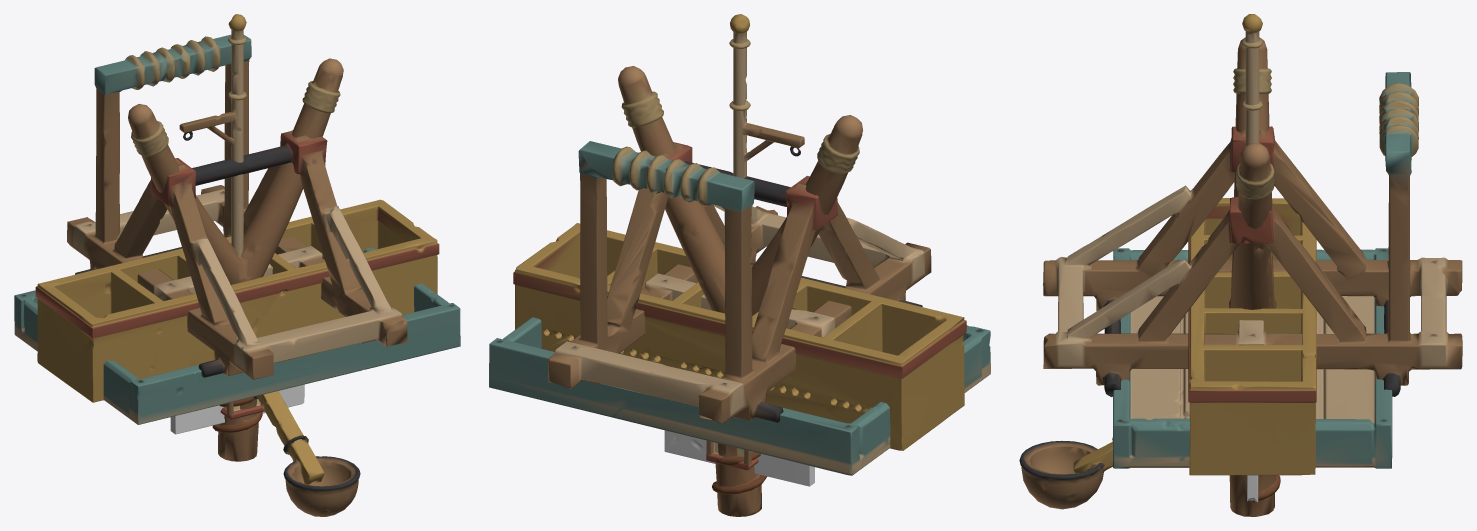
Rendered from props.fbx.
3 renders of one model, left to right at view 1: azimuth 30°, elevation 25°; view 2: azimuth 150°, elevation 25°; view 3: azimuth 270°, elevation 25°, orthographic. The views are drawn at different scales.
Visible parts, largest first — view 1: C_Frame, A_Box, T_Tray, S_Fork, C_Arm, K_Pole, H_Tag; view 2: C_Frame, A_Box, T_Tray, S_Fork, K_Pole, H_Tag, K_Lantern; view 3: C_Frame, A_Box, T_Tray, S_Fork, C_Arm, K_Pole.
Boxes of the visible parts, x1,y1,x2,y2 form: C_Frame: [67, 34, 407, 379]; A_Box: [35, 199, 439, 402]; T_Tray: [14, 247, 460, 424]; S_Fork: [128, 58, 343, 461]; C_Arm: [253, 391, 360, 516]; K_Pole: [179, 14, 246, 255]; H_Tag: [170, 384, 304, 434]; C_Frame: [548, 141, 931, 423]; A_Box: [513, 223, 966, 450]; T_Tray: [489, 317, 990, 475]; S_Fork: [618, 66, 862, 516]; K_Pole: [685, 14, 804, 373]; H_Tag: [664, 430, 814, 486]; K_Lantern: [706, 440, 758, 470]; C_Frame: [1043, 72, 1462, 396]; A_Box: [1188, 198, 1316, 475]; T_Tray: [1113, 248, 1392, 468]; S_Fork: [1229, 37, 1280, 516]; C_Arm: [1019, 437, 1112, 509]; K_Pole: [1242, 14, 1262, 146].
Size of what is drawn, in the model's own units: 0.161 by 0.195 by 0.1586.
